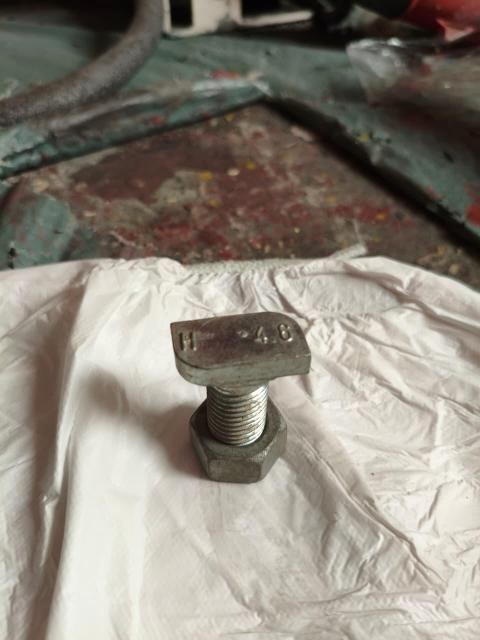Metal: (162, 305, 317, 490)
